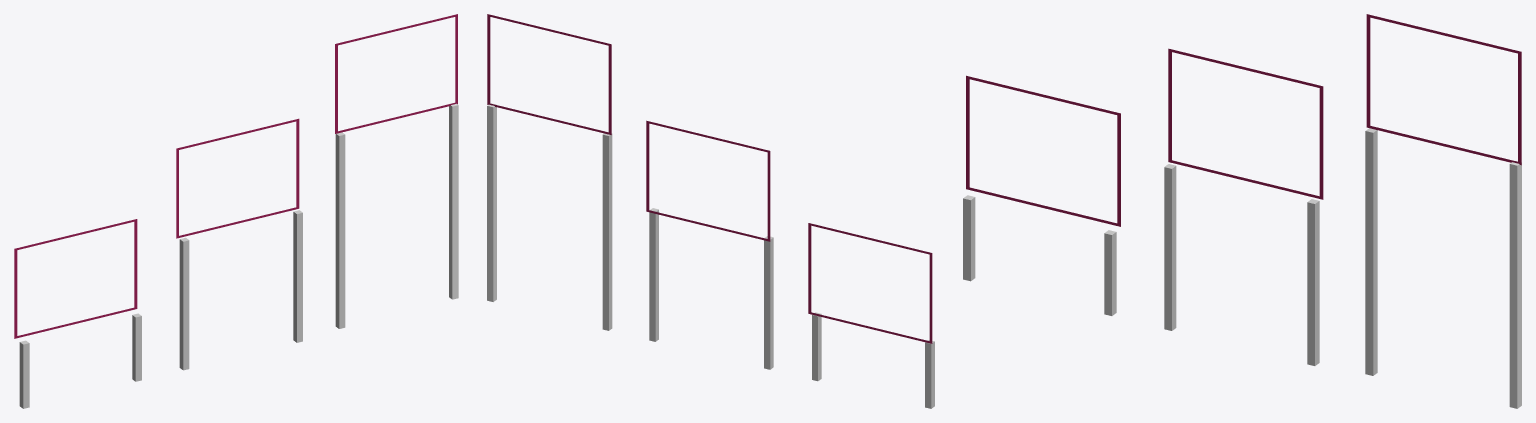
Rendered from race.dae.
3 views of the same model, side by side, from view 1: azimuth 30°, elevation 25°; view 2: azimuth 150°, elevation 25°; view 3: azimuth 330°, elevation 25° (orthographic). The views are drawn at different scales.
Parts seen in each view (by area): view 1: right1.5, left1.5, right1.0, Gate1.002, left1.0, Gate1.001, Gate1.5, right0.5, left0.5; view 2: right1.5, left1.5, Gate1.002, Gate1.001, Gate1.5, left1.0, right1.0, left0.5, right0.5; view 3: right1.5, left1.5, left1.0, right1.0, Gate1.001, Gate1.5, Gate1.002, left0.5, right0.5.
Part boxes in pixels (x1=…): right1.5: x1=335, y1=132, x2=345, y2=328; left1.5: x1=449, y1=102, x2=458, y2=299; right1.0: x1=179, y1=237, x2=189, y2=370; Gate1.002: x1=14, y1=219, x2=137, y2=338; left1.0: x1=293, y1=210, x2=302, y2=342; Gate1.001: x1=176, y1=118, x2=299, y2=238; Gate1.5: x1=335, y1=14, x2=457, y2=133; right0.5: x1=19, y1=340, x2=29, y2=408; left0.5: x1=132, y1=313, x2=141, y2=381; right1.5: x1=602, y1=133, x2=612, y2=330; left1.5: x1=487, y1=103, x2=496, y2=301; Gate1.002: x1=808, y1=223, x2=932, y2=343; Gate1.001: x1=646, y1=120, x2=770, y2=241; Gate1.5: x1=487, y1=14, x2=611, y2=134; left1.0: x1=649, y1=208, x2=658, y2=341; right1.0: x1=764, y1=236, x2=773, y2=369; left0.5: x1=812, y1=312, x2=821, y2=381; right0.5: x1=925, y1=340, x2=934, y2=408; right1.5: x1=1365, y1=128, x2=1377, y2=375; left1.5: x1=1509, y1=160, x2=1521, y2=408; left1.0: x1=1307, y1=199, x2=1319, y2=365; right1.0: x1=1164, y1=164, x2=1176, y2=330; Gate1.001: x1=1168, y1=48, x2=1323, y2=199; Gate1.5: x1=1366, y1=14, x2=1521, y2=165; Gate1.002: x1=966, y1=75, x2=1120, y2=226; left0.5: x1=1104, y1=230, x2=1116, y2=315; right0.5: x1=963, y1=195, x2=975, y2=281.
Size of what is drawn, in the model's own units: 3.6 by 0.0864 by 2.22.
